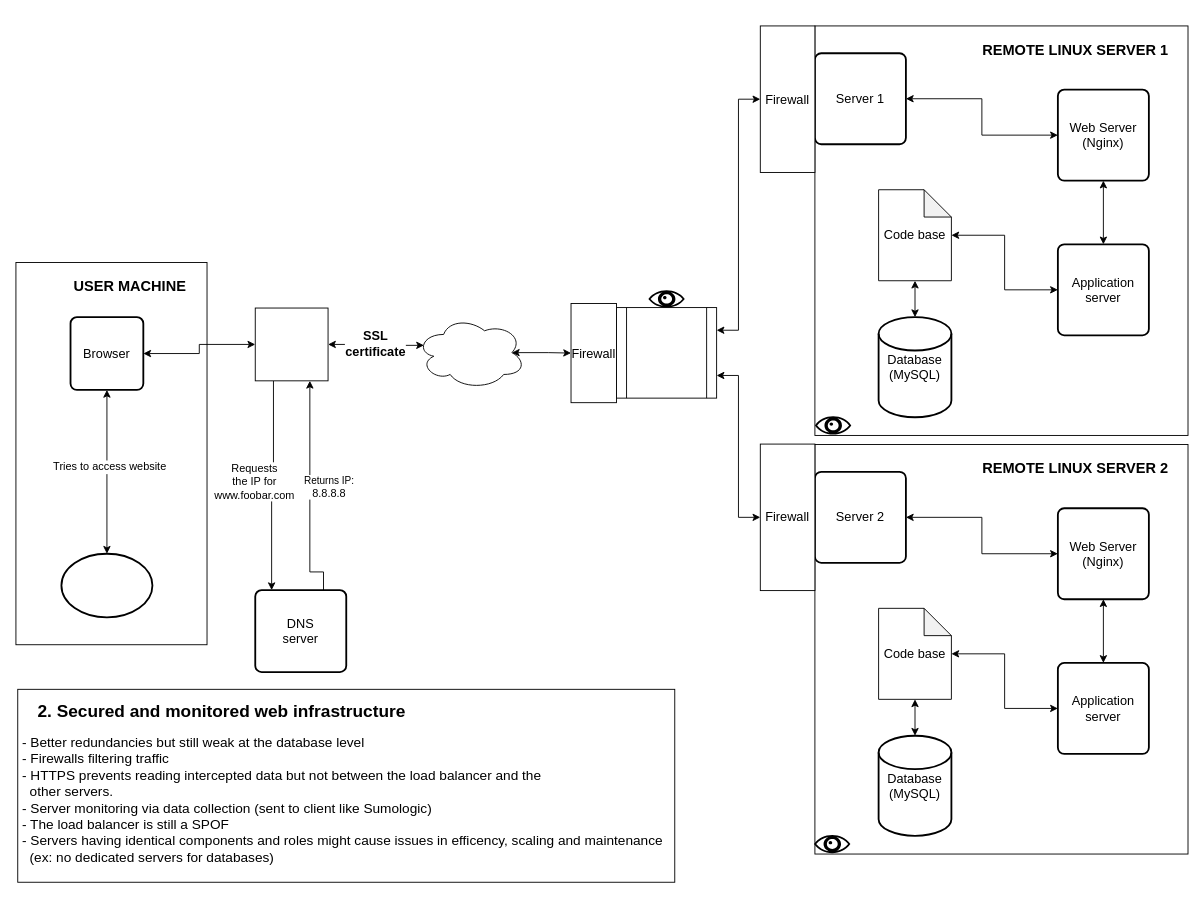
Image size: 1204x901. Some labels were removed from this diagram. The shapes that lost their labels are listed below. From the top down, each one's centre as x and y in pixels, then its label:
the point at 291,344: User router
the point at 470,352: Internet
the point at 666,352: 8.8.8.8 Load balancer (HAproxy)
the point at 106,585: User
